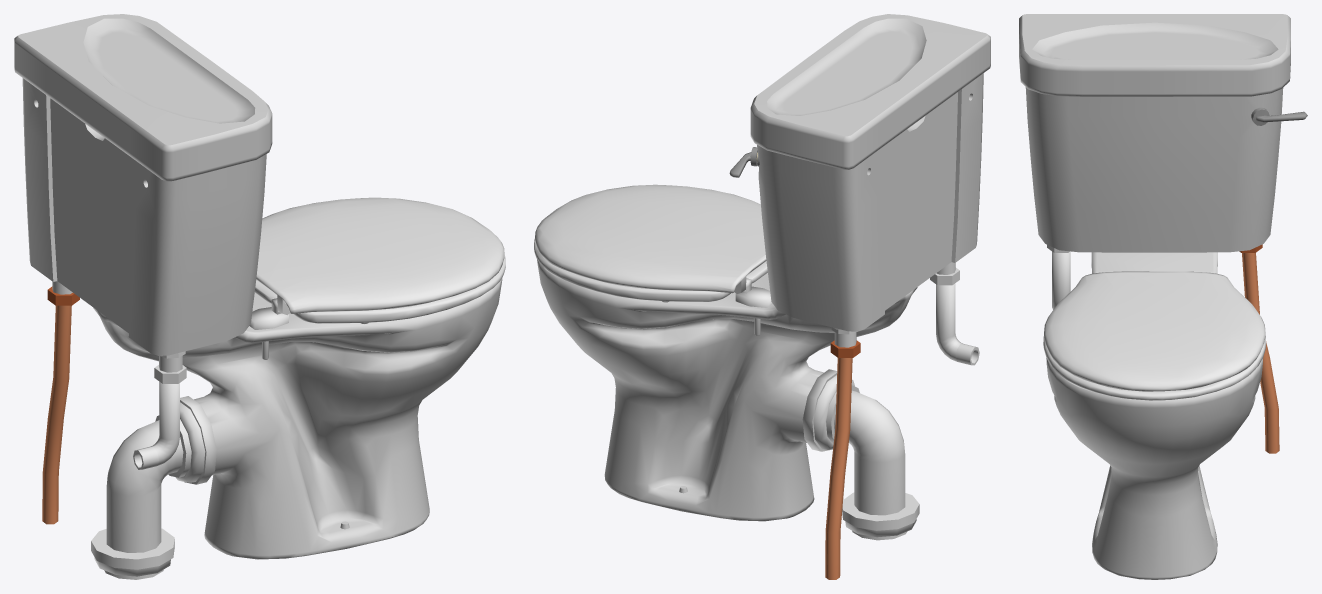
Rendered from toilet.fbx.
The picture shows the model from 3 angles, left to right: view 1: azimuth 30°, elevation 25°; view 2: azimuth 150°, elevation 25°; view 3: azimuth 270°, elevation 25°; orthographic projection. The views are drawn at different scales.
Parts seen in each view (by area): view 1: pan, Cube.003, Cube.010, Cube.024, Cube.035, Circle.015, Cube.049, Cylinder.002, Circle.017, Cube.051; view 2: pan, Cube.003, Cube.010, Cube.024, Cube.035, Circle.015, Cube.049, Cylinder.002, Circle.017, Cube.051; view 3: Cube.003, pan, Cube.010, Cube.024, Cube.049, Circle.015, Cylinder.002, Circle.018.
Part boxes in pixels (x1,y1,x2,y2): pan: (93, 278, 502, 559); Cube.003: (22, 78, 266, 355); Cube.010: (14, 14, 272, 181); Cube.024: (256, 197, 504, 315); Cube.035: (91, 396, 216, 579); Circle.015: (42, 305, 71, 524); Cube.049: (255, 255, 505, 323); Cylinder.002: (133, 382, 179, 469); Circle.017: (47, 281, 186, 383); Cube.051: (249, 298, 288, 329); pan: (537, 259, 917, 521); Cube.003: (757, 73, 983, 331); Cube.010: (750, 14, 990, 169); Cube.024: (535, 184, 766, 293); Cube.035: (802, 369, 919, 540); Circle.015: (825, 358, 852, 579); Cube.049: (534, 239, 767, 302); Cylinder.002: (936, 283, 979, 365); Circle.017: (830, 262, 959, 357); Cube.051: (735, 278, 772, 307); Cube.003: (1025, 87, 1283, 252); pan: (1046, 252, 1262, 579); Cube.010: (1019, 14, 1290, 96); Cube.024: (1044, 271, 1265, 391); Cube.049: (1043, 336, 1266, 400); Circle.015: (1242, 253, 1279, 453); Cylinder.002: (1052, 251, 1070, 309); Circle.018: (1251, 107, 1307, 125).
Size of the model in its own units: 67.8 by 78.05 by 47.91.
